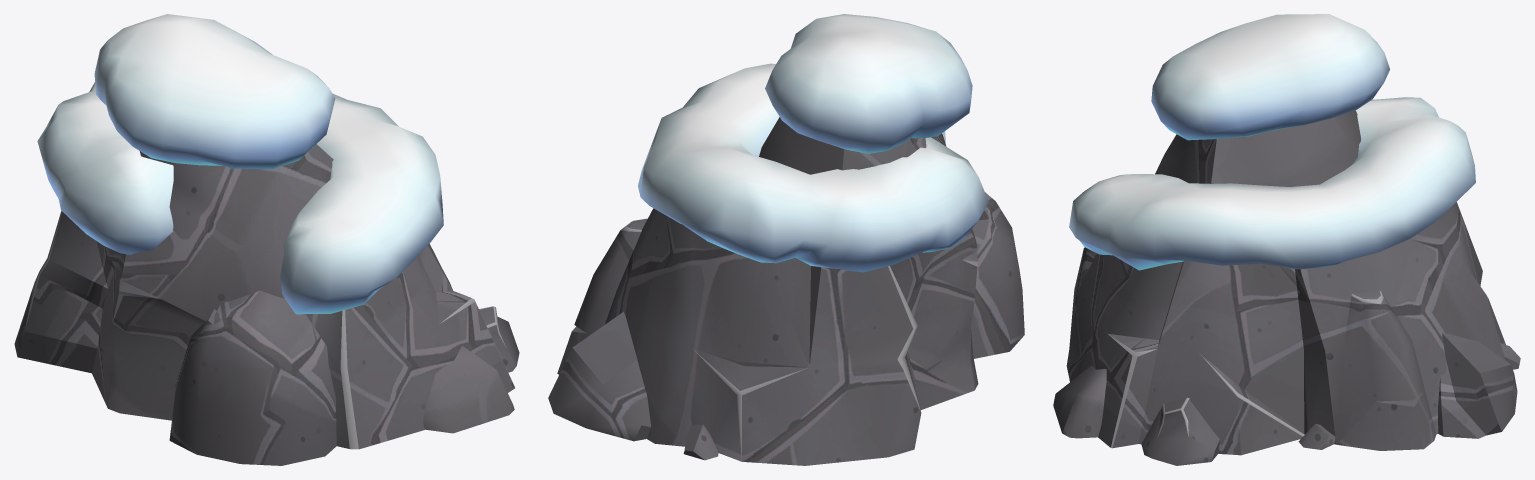
The model's file is DefaultIglooLargeRock.fbx.
The picture shows the model from 3 angles, left to right: view 1: azimuth 30°, elevation 25°; view 2: azimuth 150°, elevation 25°; view 3: azimuth 270°, elevation 25°; orthographic projection. The views are drawn at different scales.
Visible parts, largest first — view 1: Rock, Snow; view 2: Rock, Snow; view 3: Rock, Snow.
Boxes of the visible parts, x1=… form: Rock: x1=14, y1=144, x2=519, y2=465; Snow: x1=37, y1=14, x2=443, y2=314; Rock: x1=548, y1=117, x2=1024, y2=465; Snow: x1=638, y1=14, x2=988, y2=272; Rock: x1=1053, y1=110, x2=1520, y2=465; Snow: x1=1069, y1=14, x2=1475, y2=270.
Bounding box in the file's own units: 1027 × 880 × 1168.
